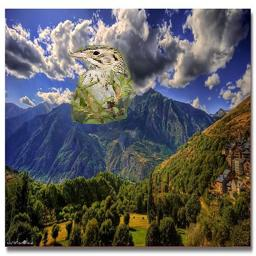Sparrow: (68, 46, 136, 125)
